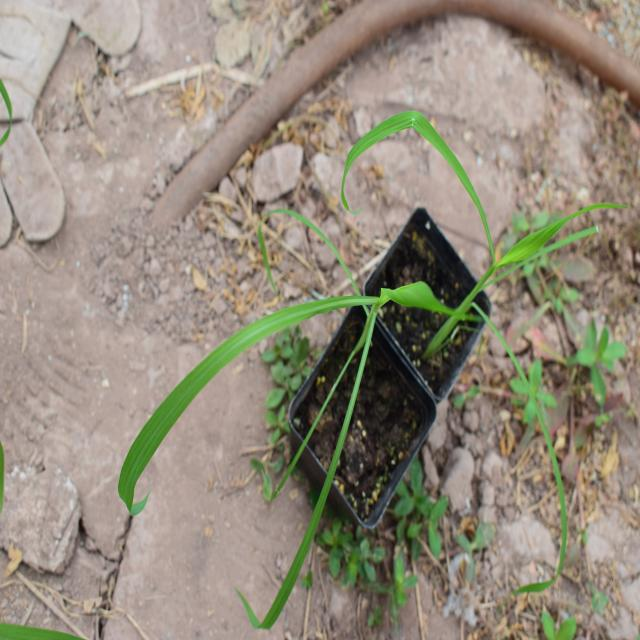barnyard_grass: (107, 236, 464, 519)
